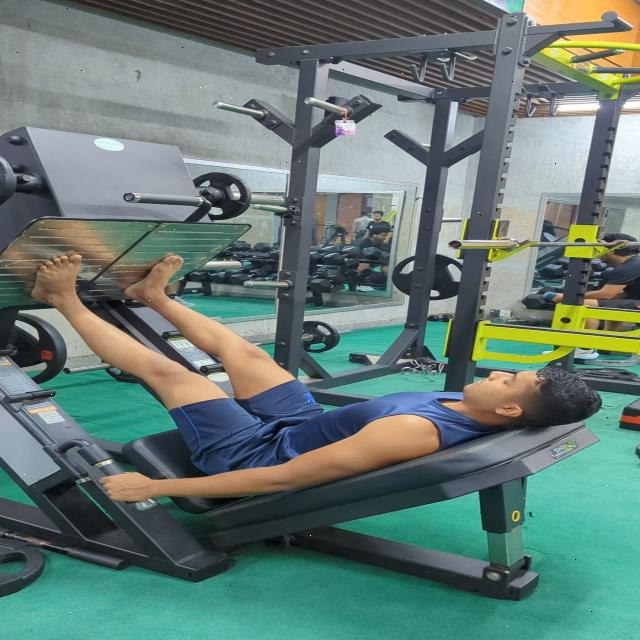Normal_LegPress: (0, 246, 608, 508)
